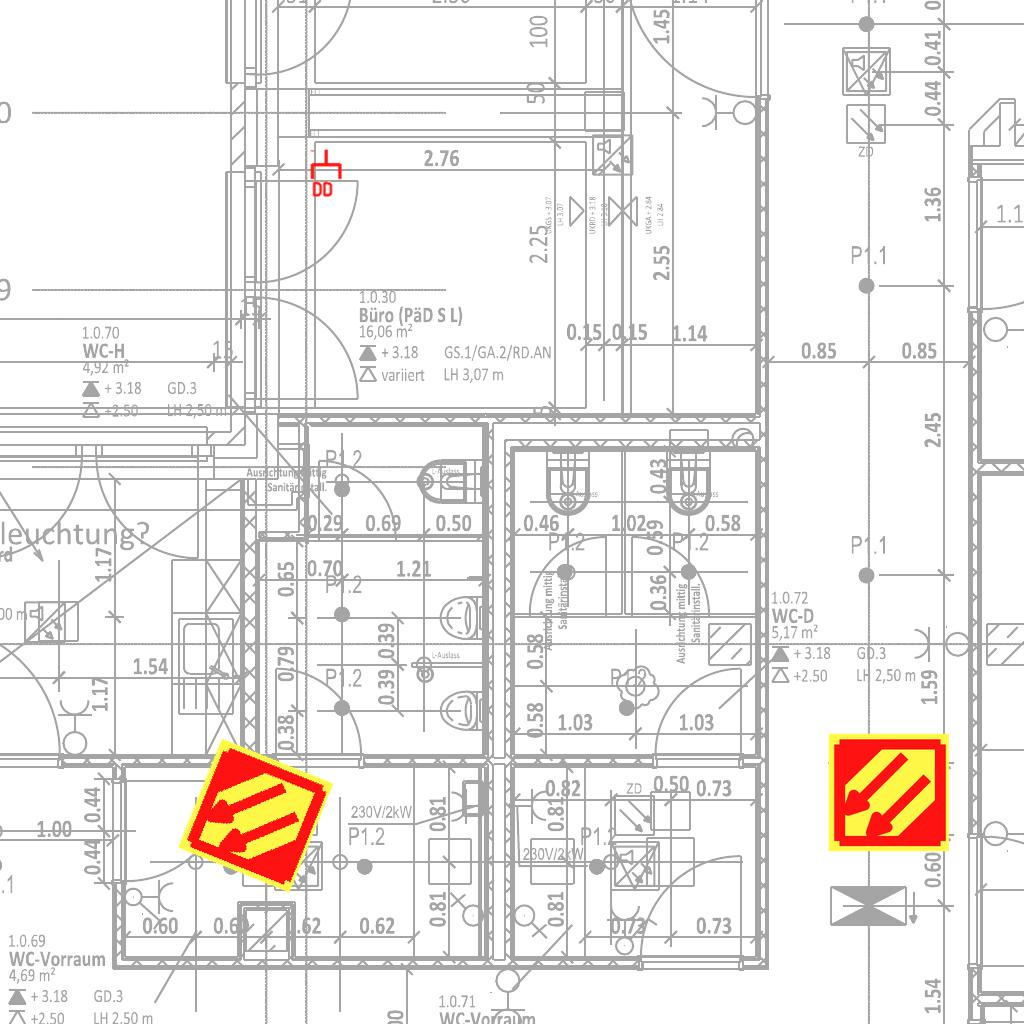ASR_Ansaugrauchmelder: (174, 734, 337, 897), (826, 730, 951, 855)
Datenanschluss_zweifach: (310, 148, 344, 199)
